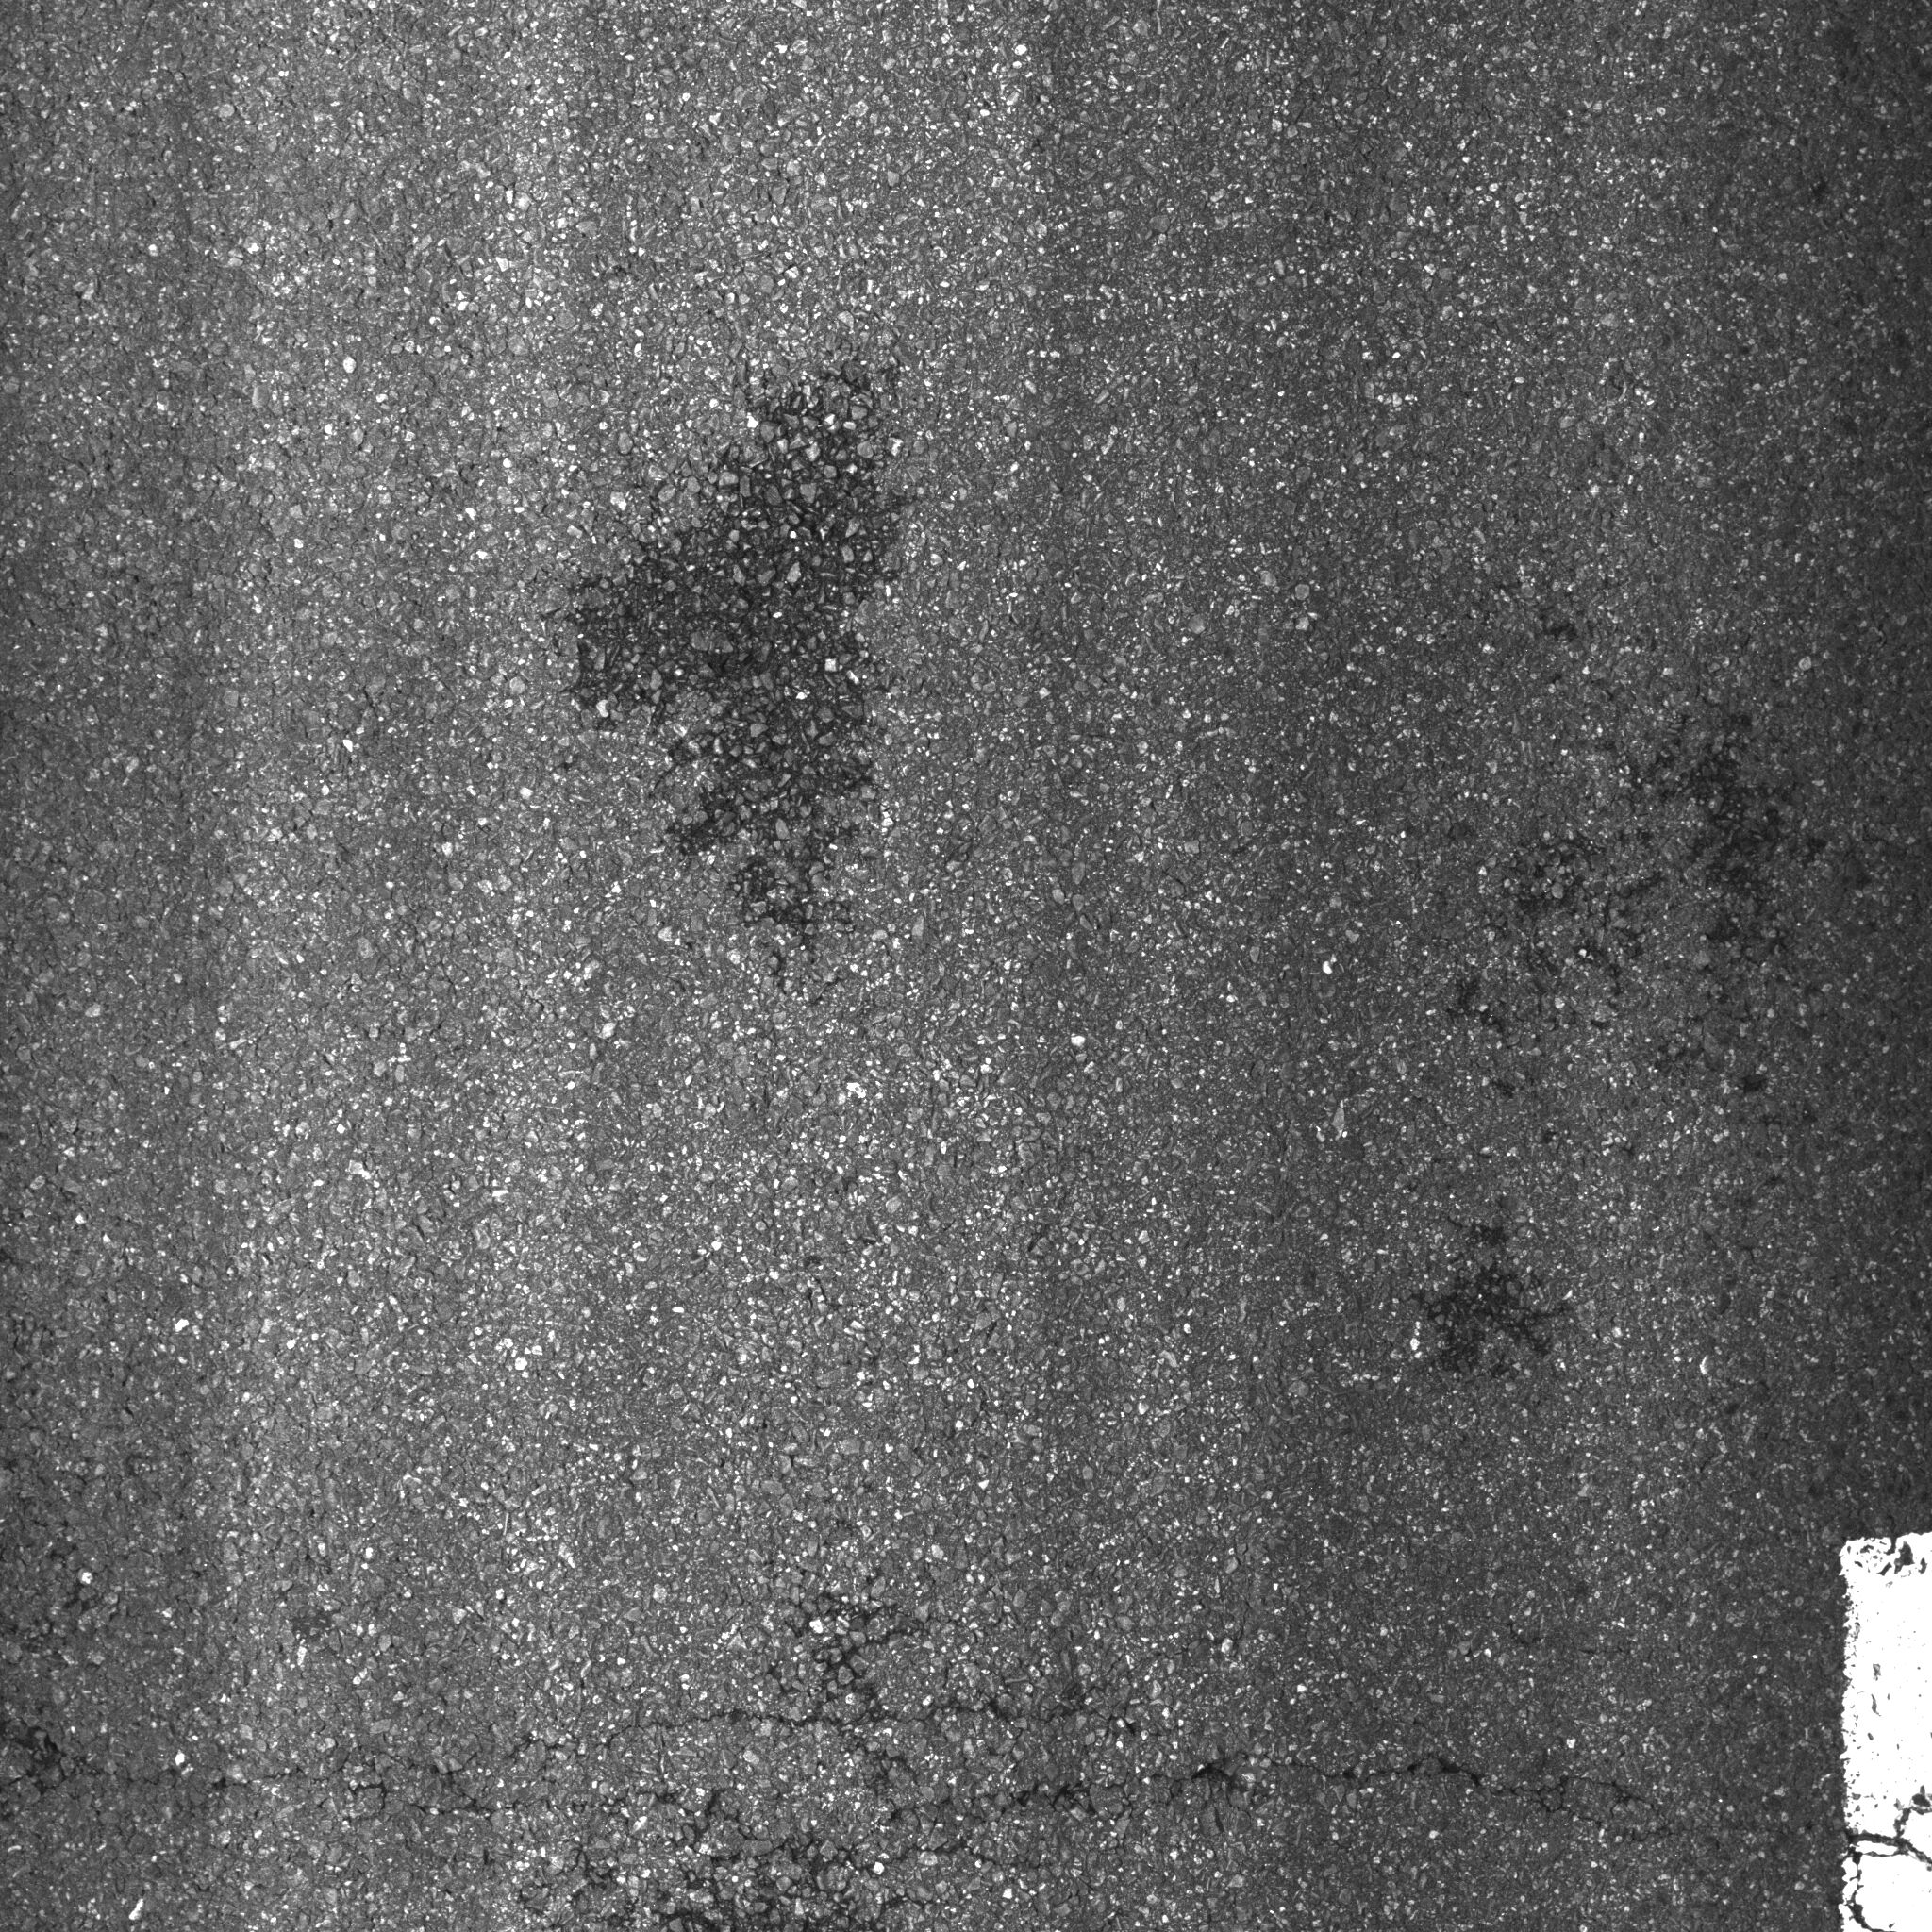transeverse: (844, 1741, 1927, 1882), (5, 1684, 1054, 1815)
